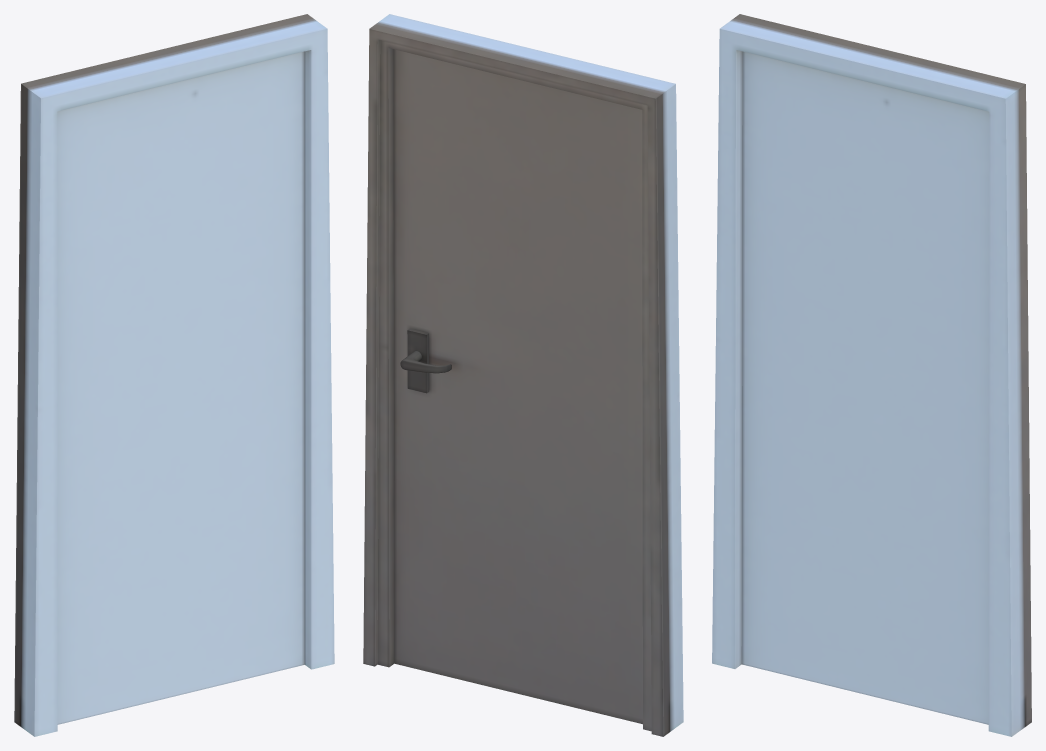
Rendered from CloseDoor.gltf.
3 renders of one model, left to right at view 1: azimuth 30°, elevation 25°; view 2: azimuth 150°, elevation 25°; view 3: azimuth 330°, elevation 25°, orthographic.
Visible parts, largest first — view 1: Cube.012_Door_0.002; view 2: Cube.012_Door_0.002; view 3: Cube.012_Door_0.002.
Part boxes in pixels (<box>): Cube.012_Door_0.002: <box>14,14,334,736</box>; Cube.012_Door_0.002: <box>363,14,683,736</box>; Cube.012_Door_0.002: <box>712,14,1031,736</box>.
Bounding box in the file's own units: 1.06 × 2.16 × 0.1677.
